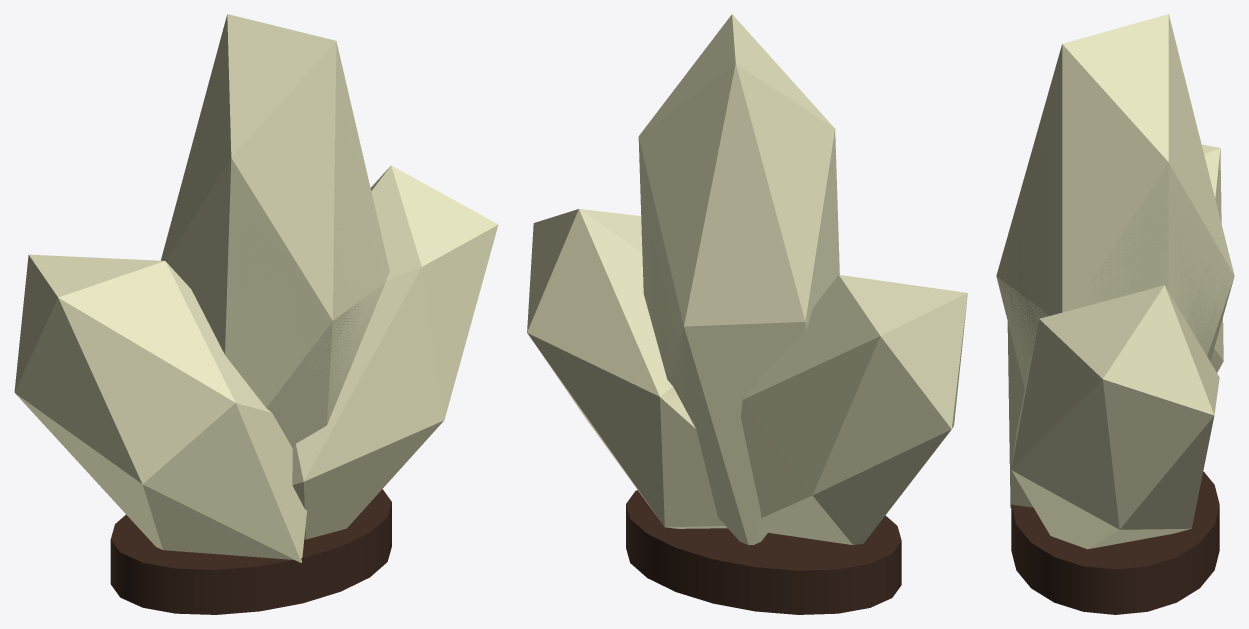
The model's file is Egg_v1.fbx.
3 renders of one model, left to right at view 1: azimuth 30°, elevation 25°; view 2: azimuth 150°, elevation 25°; view 3: azimuth 270°, elevation 25°, orthographic. The views are drawn at different scales.
Visible parts, largest first — view 1: pPlatonic4; view 2: pPlatonic4; view 3: pPlatonic4.
Boxes of the visible parts, left/top/right/bottom form: pPlatonic4: left=14, top=14, right=498, bottom=614; pPlatonic4: left=527, top=14, right=967, bottom=614; pPlatonic4: left=996, top=14, right=1234, bottom=614.
Size of the model in its own units: 8.92 by 9.95 by 4.
